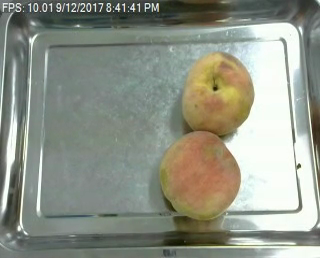Peach: (159, 130, 242, 219), (180, 52, 253, 135)
